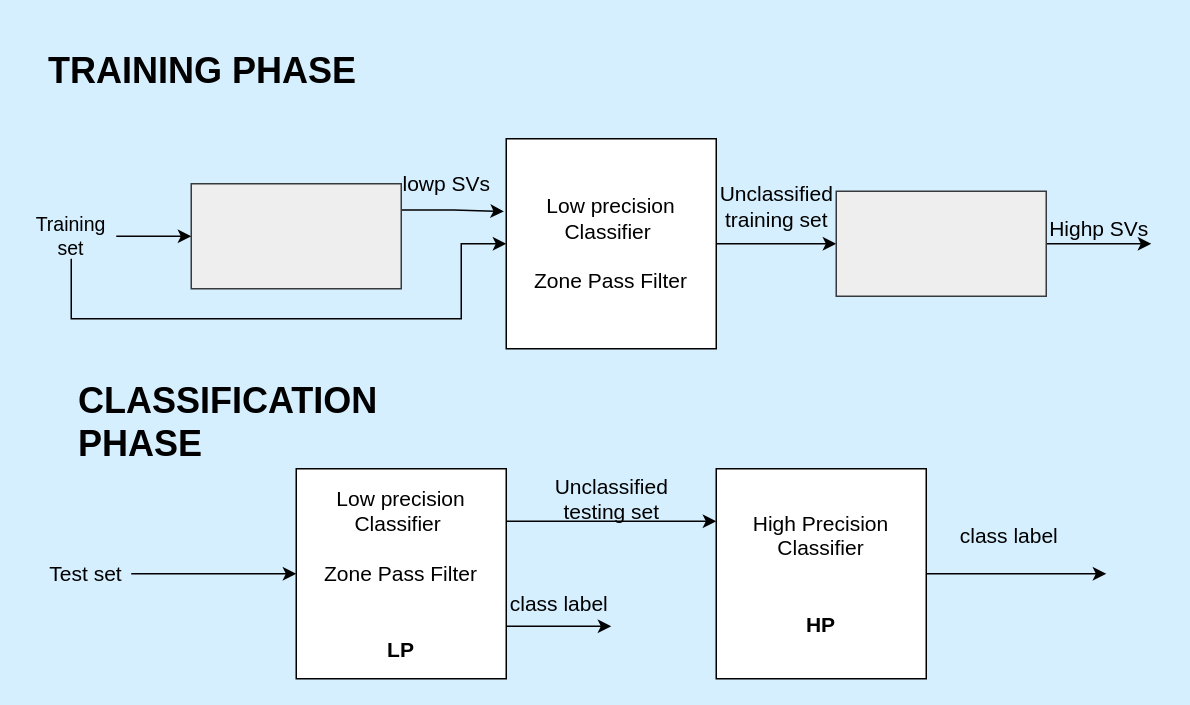
Image size: 1190x705. Some labels were removed from this diagram. Here are the shapes that lost their labels. From the top down, the centre of each, then its label:
point (295, 235): Low Precision Training
point (940, 243): High precision Training
